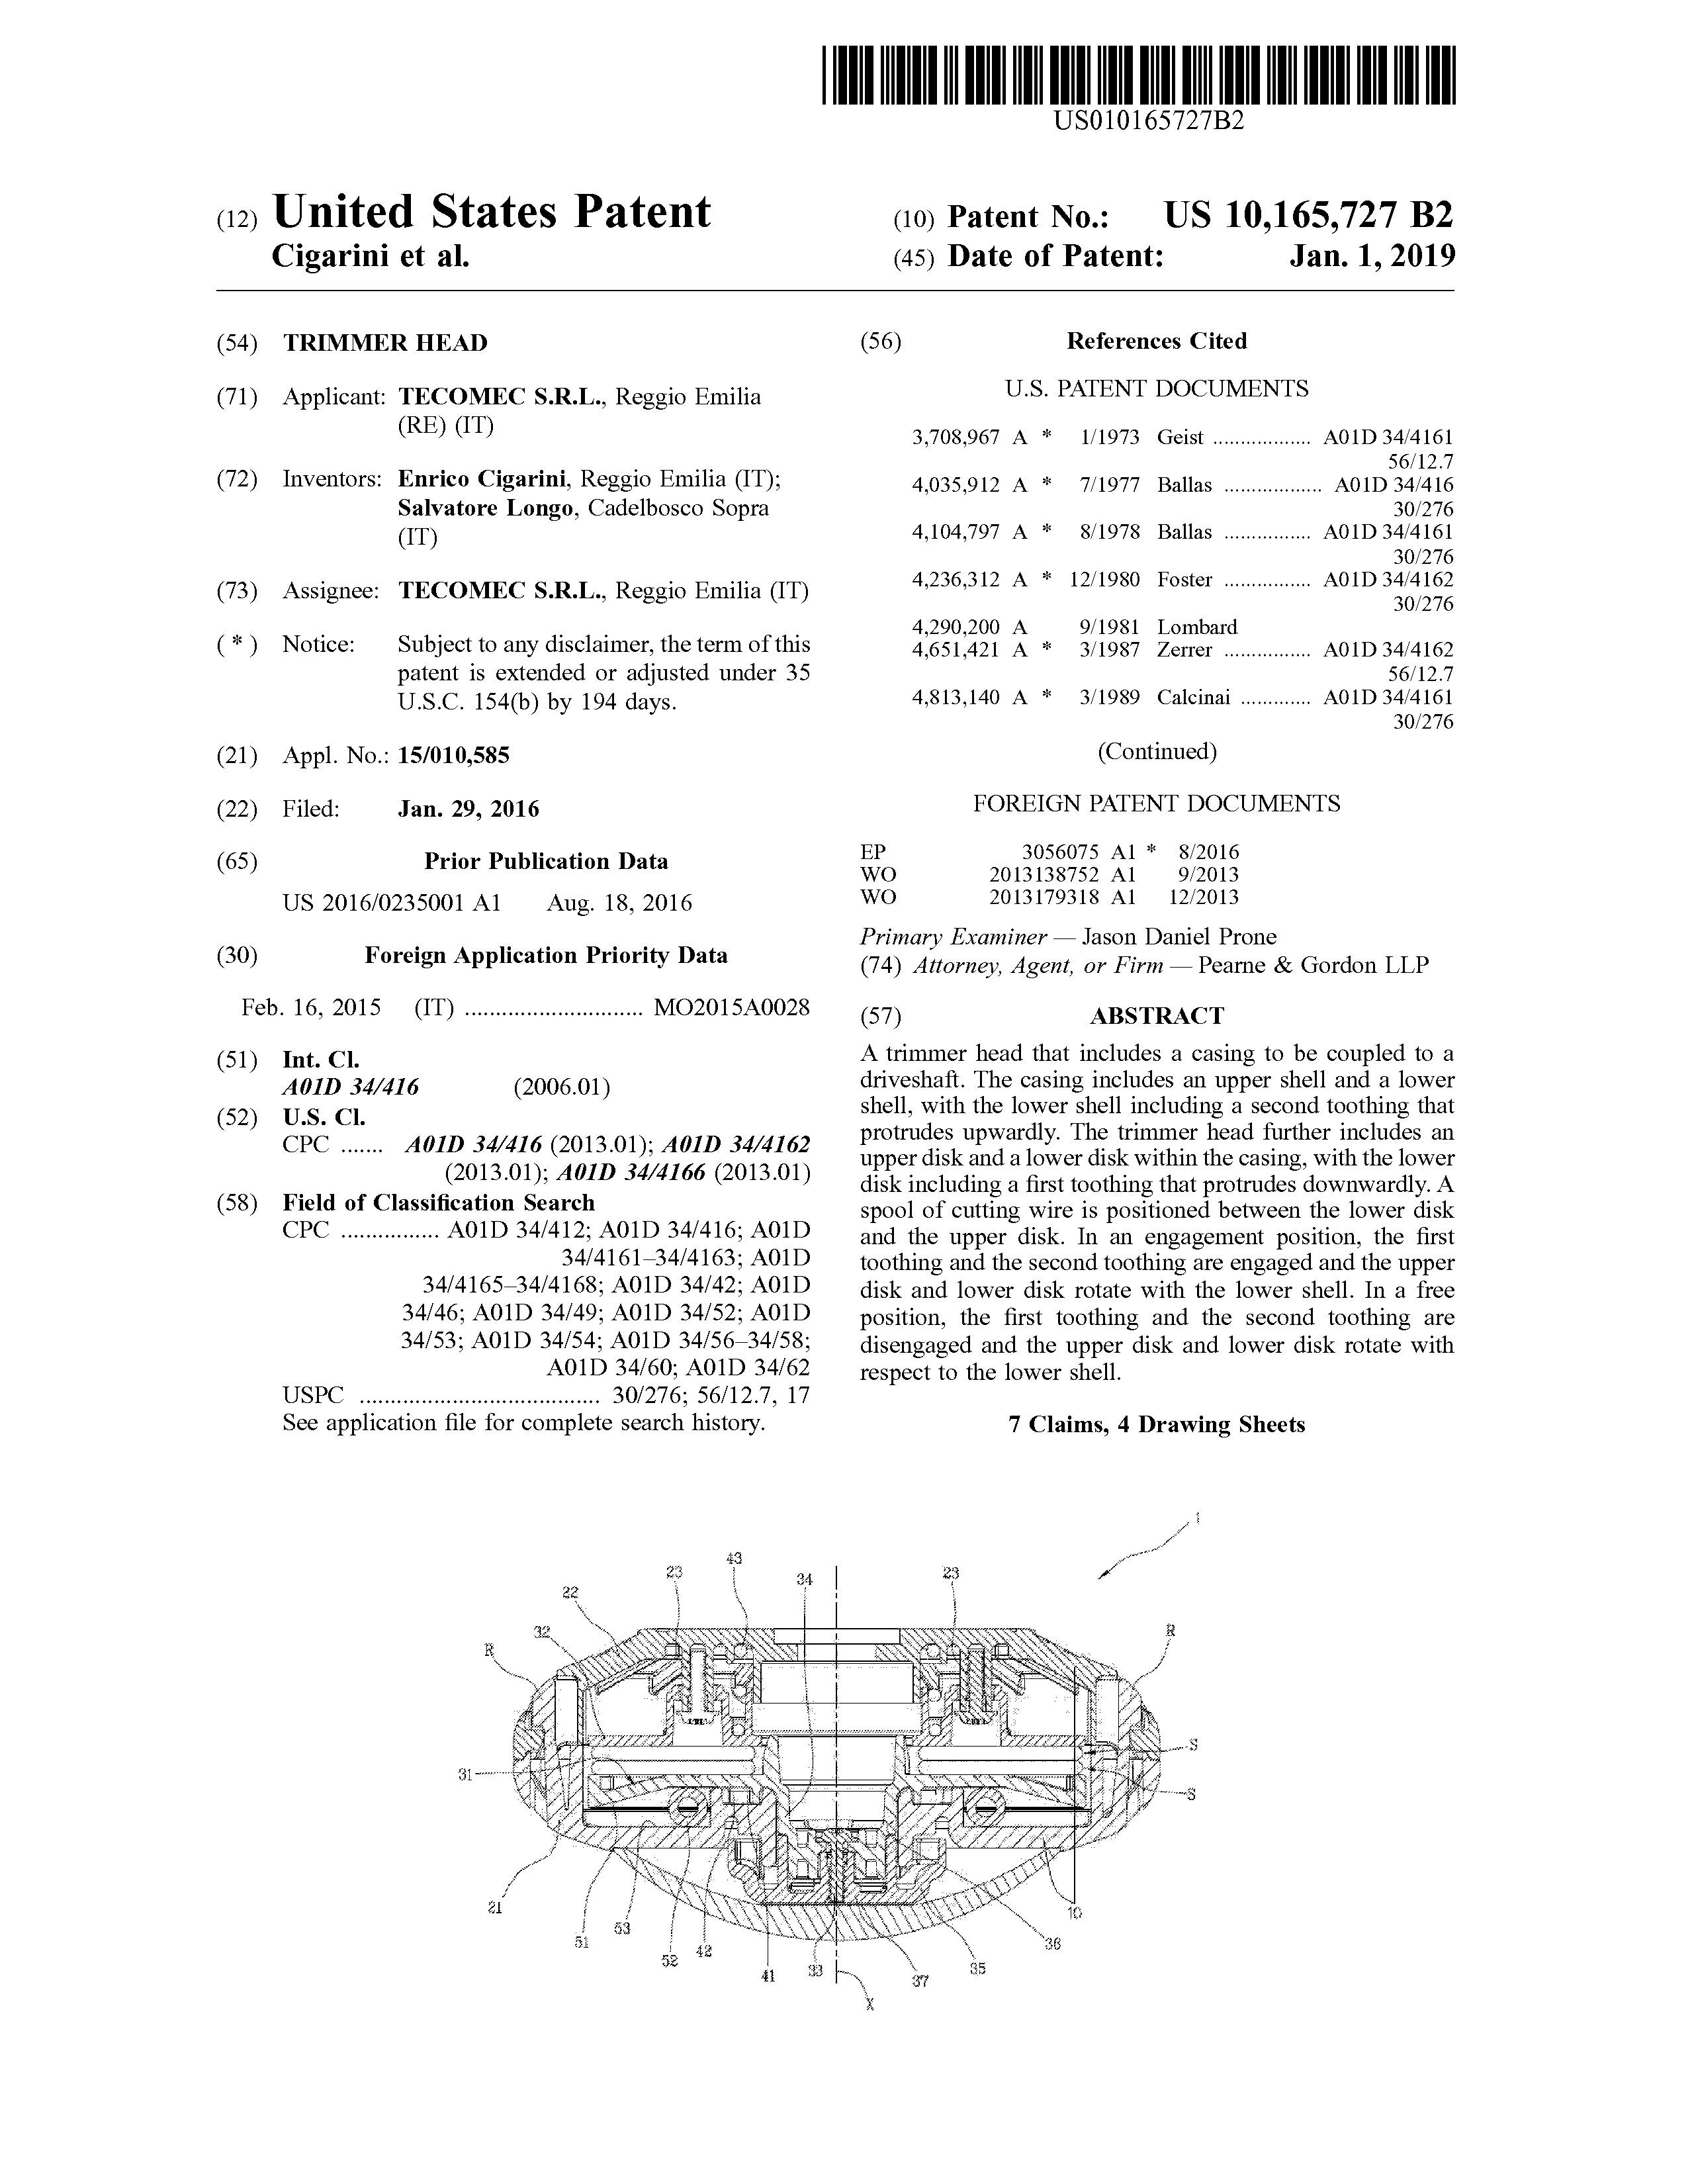patent image: (416, 1505, 1276, 2017)
